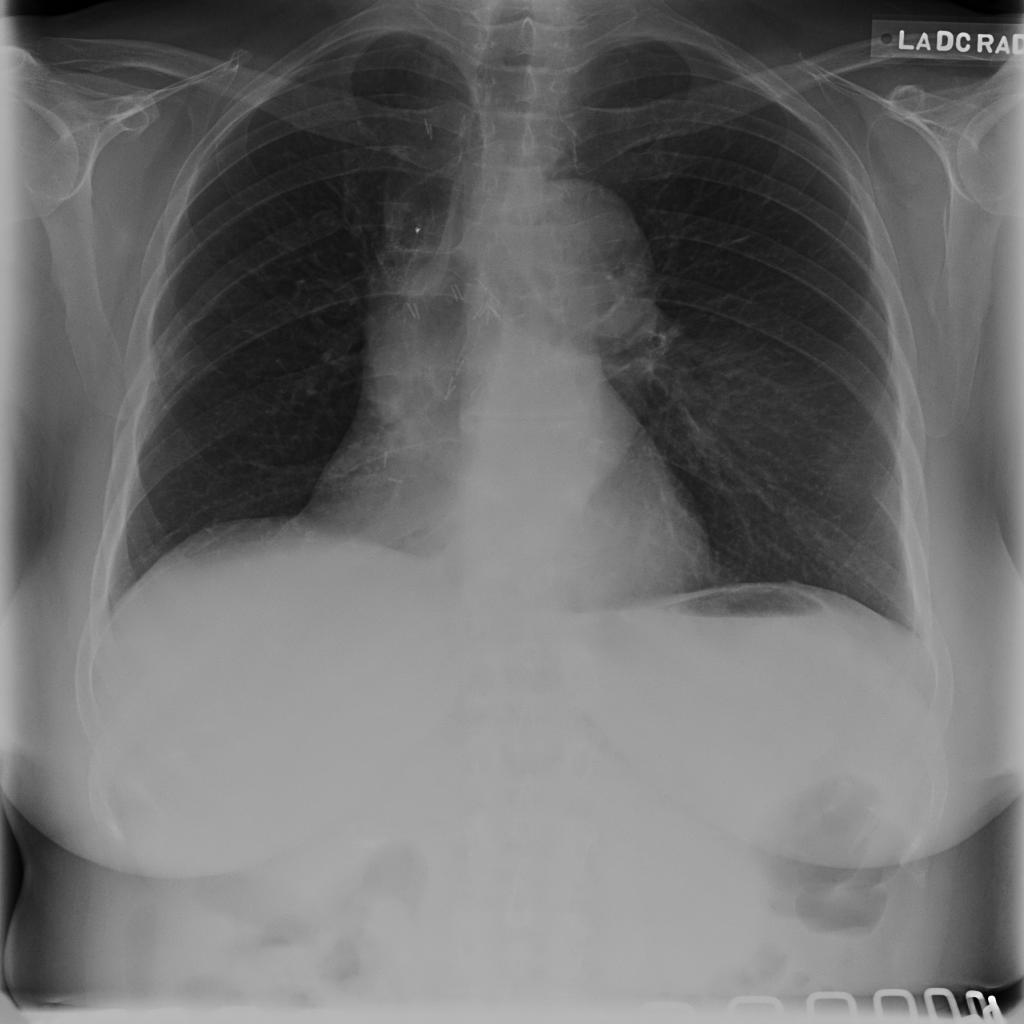Nodule: (135, 257, 189, 286), (391, 172, 431, 198)
